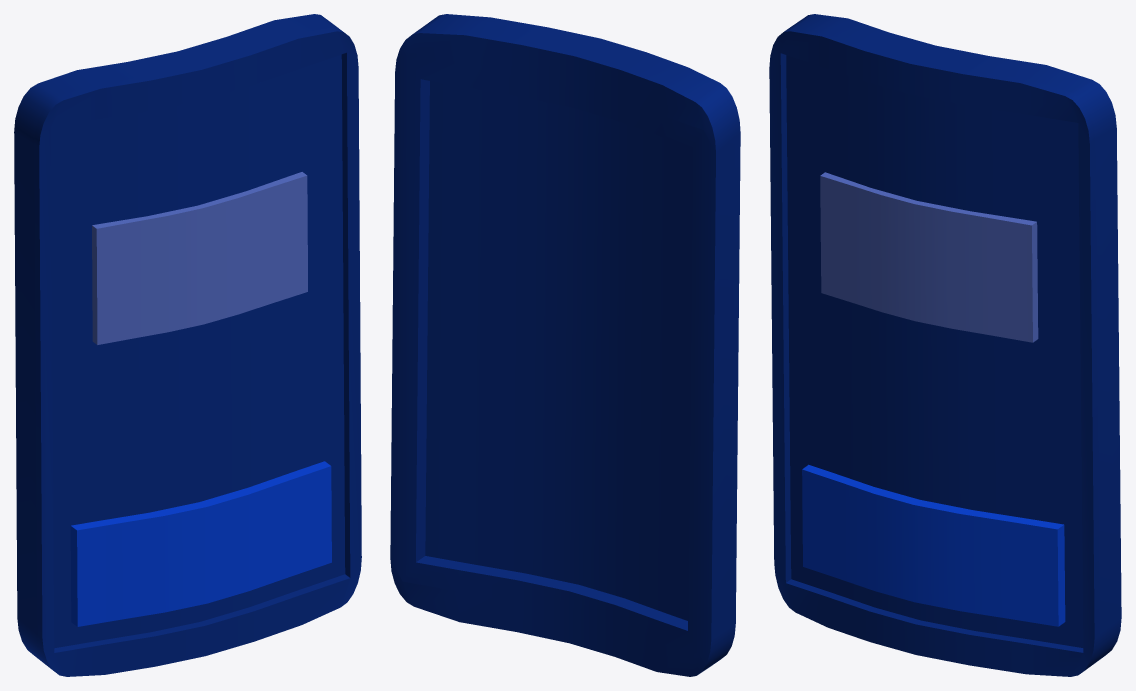
File: police_shield.fbx
3 renders of one model, left to right at view 1: azimuth 30°, elevation 25°; view 2: azimuth 150°, elevation 25°; view 3: azimuth 330°, elevation 25°, orthographic.
Visible parts, largest first — view 1: police_shield; view 2: police_shield; view 3: police_shield.
Part boxes in pixels (bbox=[...]): police_shield: bbox=[14, 14, 361, 676]; police_shield: bbox=[390, 14, 740, 676]; police_shield: bbox=[769, 14, 1121, 676].
Size of the model in its own units: 0.5056 by 0.8757 by 0.1014.
